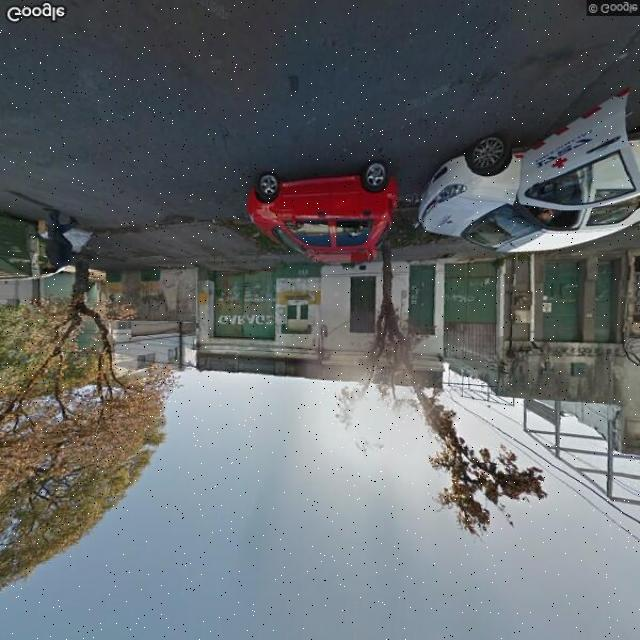garbage container: (2, 210, 92, 288)
